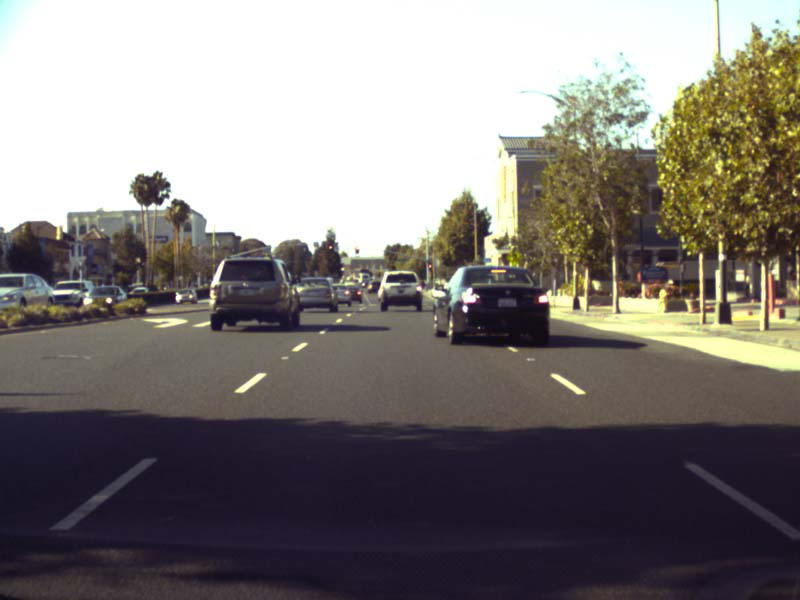Red: (354, 245, 359, 255), (427, 259, 432, 269), (328, 242, 332, 252)
